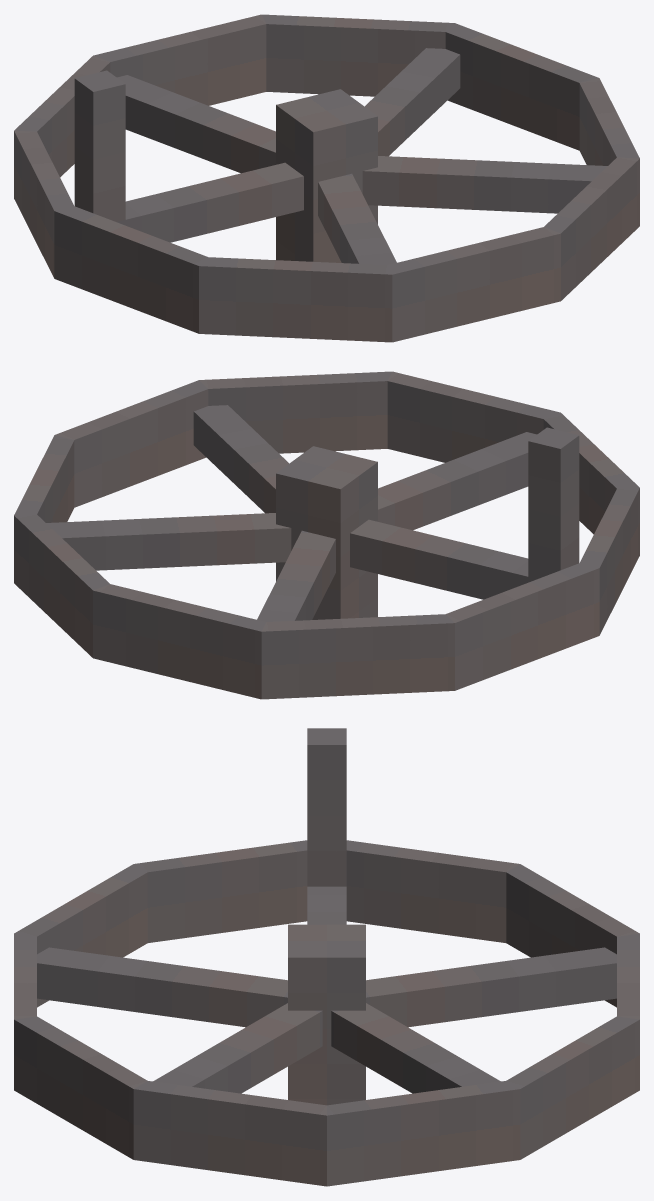
The model's file is large_wheel_crank.obj.
The picture shows the model from 3 angles, top to bottom: view 1: azimuth 30°, elevation 25°; view 2: azimuth 150°, elevation 25°; view 3: azimuth 270°, elevation 25°; orthographic projection. The views are drawn at different scales.
Visible parts, largest first — view 1: tube, shaft, spoke4, spoke1, spoke2, handle, spoke3, spoke5; view 2: tube, shaft, spoke3, spoke1, spoke5, handle, spoke4, spoke2; view 3: tube, spoke2, spoke5, shaft, spoke3, spoke4, handle, spoke1.
Boxes of the visible parts, left/top/right/bottom form: tube: left=14, top=14, right=639, bottom=342; shaft: left=276, top=89, right=377, bottom=262; spoke4: left=362, top=156, right=607, bottom=213; spoke1: left=116, top=162, right=303, bottom=242; spoke2: left=117, top=75, right=275, bottom=173; handle: left=74, top=70, right=125, bottom=221; spoke3: left=365, top=48, right=460, bottom=156; spoke5: left=318, top=173, right=396, bottom=264; tube: left=14, top=371, right=639, bottom=699; shaft: left=276, top=446, right=377, bottom=619; spoke3: left=46, top=513, right=291, bottom=570; spoke1: left=350, top=519, right=537, bottom=599; spoke5: left=378, top=432, right=536, bottom=530; handle: left=528, top=427, right=579, bottom=578; spoke4: left=193, top=405, right=288, bottom=513; spoke2: left=257, top=530, right=335, bottom=621; tube: left=14, top=840, right=639, bottom=1186; spoke2: left=366, top=947, right=616, bottom=1027; spoke5: left=37, top=947, right=287, bottom=1027; shaft: left=288, top=924, right=365, bottom=1105; spoke3: left=331, top=1003, right=500, bottom=1093; spoke4: left=153, top=1003, right=322, bottom=1093; handle: left=307, top=728, right=346, bottom=886; spoke1: left=307, top=886, right=346, bottom=924.
Size of the model in its own units: 1.05 by 0.4688 by 1.
